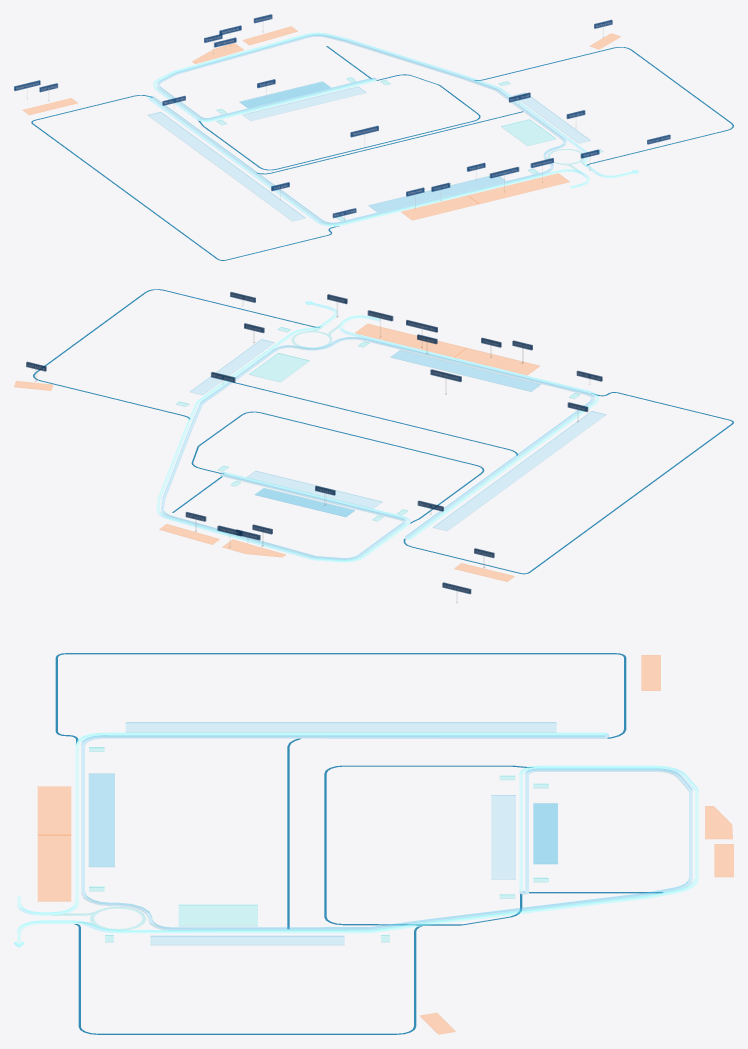
Rendered from 04_Ammenities_Overlay.glb.
3 views of the same model, one above another, from view 1: azimuth 30°, elevation 25°; view 2: azimuth 150°, elevation 25°; view 3: azimuth 270°, elevation 25° (orthographic). The views are drawn at different scales.
Parts seen in each view (by area): view 1: SM_INFO_MainRoadLines, SM_INFO_ServiceRoadLine, SM_INFO_PARKING_B300, SM_INFO_PARKING_B100, SM_INFO_AMENITIES_02, Car_Parking, SM_INFO_PARKING_B400, SM_INFO_AMENITIES_01, SM_INFO_PARKING_B200, SM_INFO_PARKING_B500, Truck_parking.004, SM_INFO_AMENITIES_04.001; view 2: SM_INFO_MainRoadLines, SM_INFO_ServiceRoadLine, SM_INFO_PARKING_B300, SM_INFO_PARKING_B100, Car_Parking, SM_INFO_AMENITIES_02, SM_INFO_PARKING_B400, SM_INFO_AMENITIES_01, SM_INFO_PARKING_B200, SM_INFO_PARKING_B500, Truck_parking.004; view 3: SM_INFO_MainRoadLines, SM_INFO_ServiceRoadLine, SM_INFO_PARKING_B300, SM_INFO_PARKING_B100, Car_Parking, SM_INFO_AMENITIES_02, SM_INFO_PARKING_B400, SM_INFO_PARKING_B200, SM_INFO_AMENITIES_01, SM_INFO_PARKING_B500, Truck_parking.004, SM_INFO_AMENITIES_04.001 (+2 smaller).
Part boxes in pixels (box(x1,y1,x2,y2)): SM_INFO_MainRoadLines: box(148, 33, 638, 226); SM_INFO_ServiceRoadLine: box(31, 46, 733, 260); SM_INFO_PARKING_B300: box(148, 112, 304, 220); SM_INFO_PARKING_B100: box(368, 176, 505, 211); SM_INFO_AMENITIES_02: box(468, 173, 569, 203); Car_Parking: box(216, 77, 602, 220); SM_INFO_PARKING_B400: box(243, 86, 366, 120); SM_INFO_AMENITIES_01: box(401, 195, 478, 220); SM_INFO_PARKING_B200: box(513, 92, 590, 143); SM_INFO_PARKING_B500: box(240, 81, 330, 107); Truck_parking.004: box(241, 82, 329, 107); SM_INFO_AMENITIES_04.001: box(192, 43, 243, 63); SM_INFO_MainRoadLines: box(157, 301, 598, 562); SM_INFO_ServiceRoadLine: box(33, 289, 733, 574); SM_INFO_PARKING_B300: box(433, 411, 605, 530); SM_INFO_PARKING_B100: box(390, 350, 540, 391); Car_Parking: box(176, 327, 579, 521); SM_INFO_AMENITIES_02: box(355, 324, 466, 357); SM_INFO_PARKING_B400: box(247, 471, 381, 508); SM_INFO_AMENITIES_01: box(455, 348, 539, 374); SM_INFO_PARKING_B200: box(190, 339, 274, 394); SM_INFO_PARKING_B500: box(255, 488, 354, 516); Truck_parking.004: box(256, 489, 352, 516); SM_INFO_MainRoadLines: box(14, 733, 698, 947); SM_INFO_ServiceRoadLine: box(55, 653, 663, 1034); SM_INFO_PARKING_B300: box(126, 722, 556, 732); SM_INFO_PARKING_B100: box(89, 773, 114, 866); Car_Parking: box(89, 747, 548, 942); SM_INFO_AMENITIES_02: box(38, 835, 70, 901); SM_INFO_PARKING_B400: box(491, 795, 515, 879); SM_INFO_PARKING_B200: box(150, 936, 344, 944); SM_INFO_AMENITIES_01: box(38, 786, 70, 835); SM_INFO_PARKING_B500: box(533, 803, 557, 863); Truck_parking.004: box(534, 804, 557, 863); SM_INFO_AMENITIES_04.001: box(705, 806, 732, 838).
Size of the model in its own units: 30.97 by 2.71 by 24.56.
Materials: 8 (1 with a texture image).
